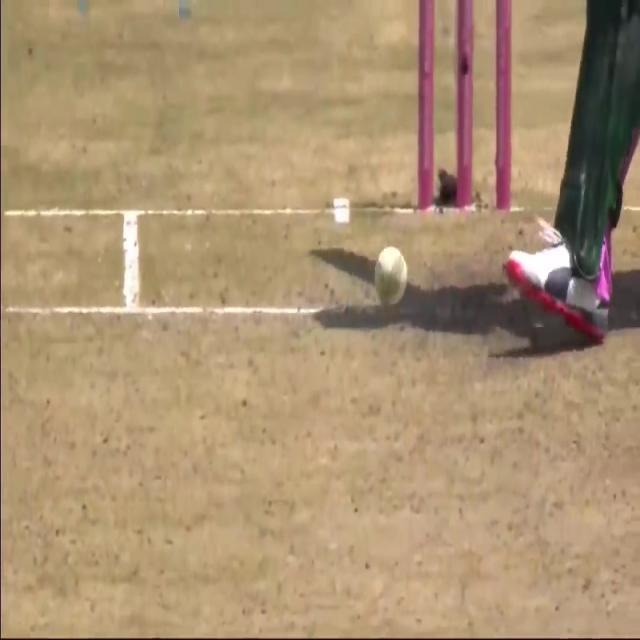Ball: (501, 0, 638, 338)
Batsman: (366, 237, 416, 318)
